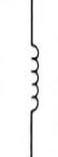inductor: (23, 36, 45, 122)
